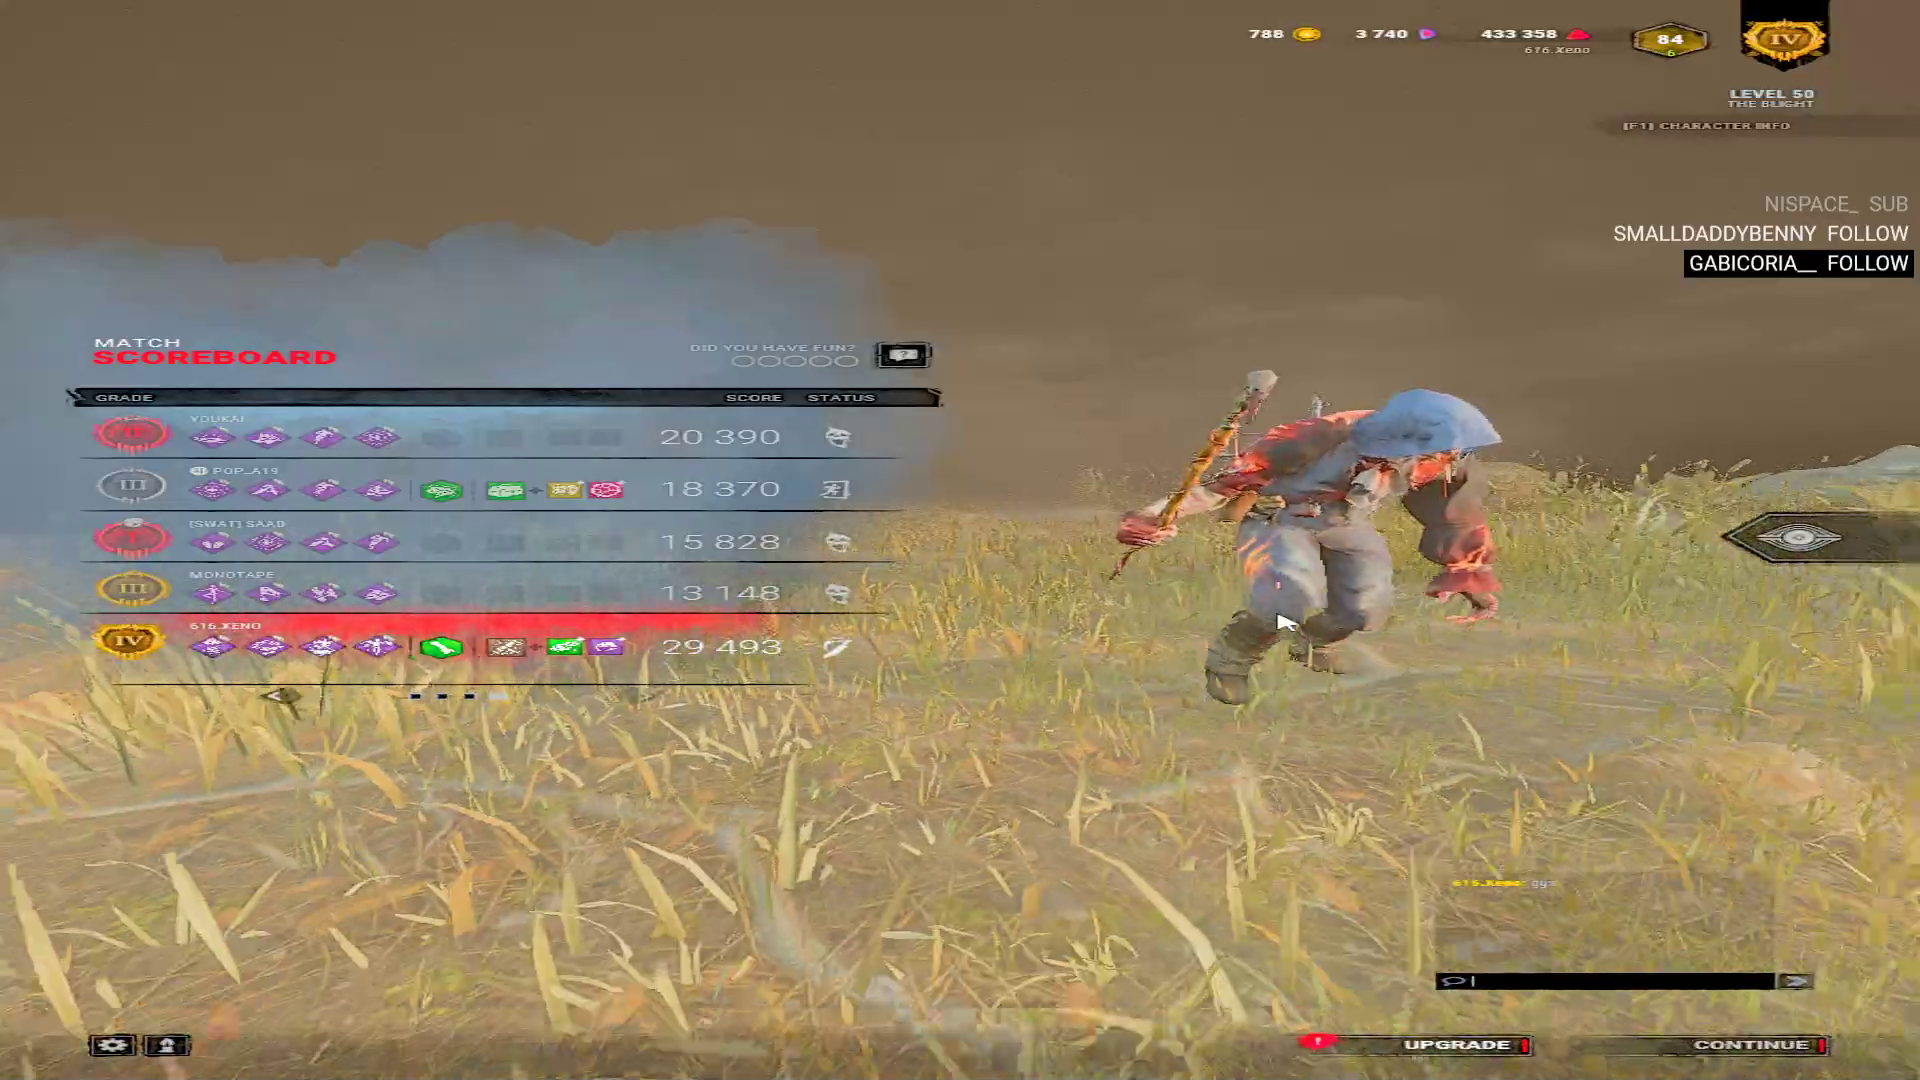balanced_landing: (189, 583, 233, 607)
bbq_and_chilli: (301, 636, 345, 659)
borrowed_time: (244, 584, 290, 607)
circle_of_healing: (189, 477, 233, 501), (243, 531, 287, 555), (353, 426, 400, 448)
corrupt_intervention: (245, 636, 291, 659)
dead_hard: (297, 479, 343, 502), (352, 531, 398, 555), (299, 426, 345, 448)
decisive_strike: (243, 479, 289, 502), (299, 531, 345, 555)
hope: (189, 531, 235, 555)
iron_will: (353, 479, 400, 502), (353, 584, 400, 607)
lethal_pursuer: (353, 636, 400, 659)
self_care: (301, 584, 345, 607)
windows_of_opportunity: (190, 427, 236, 450)
